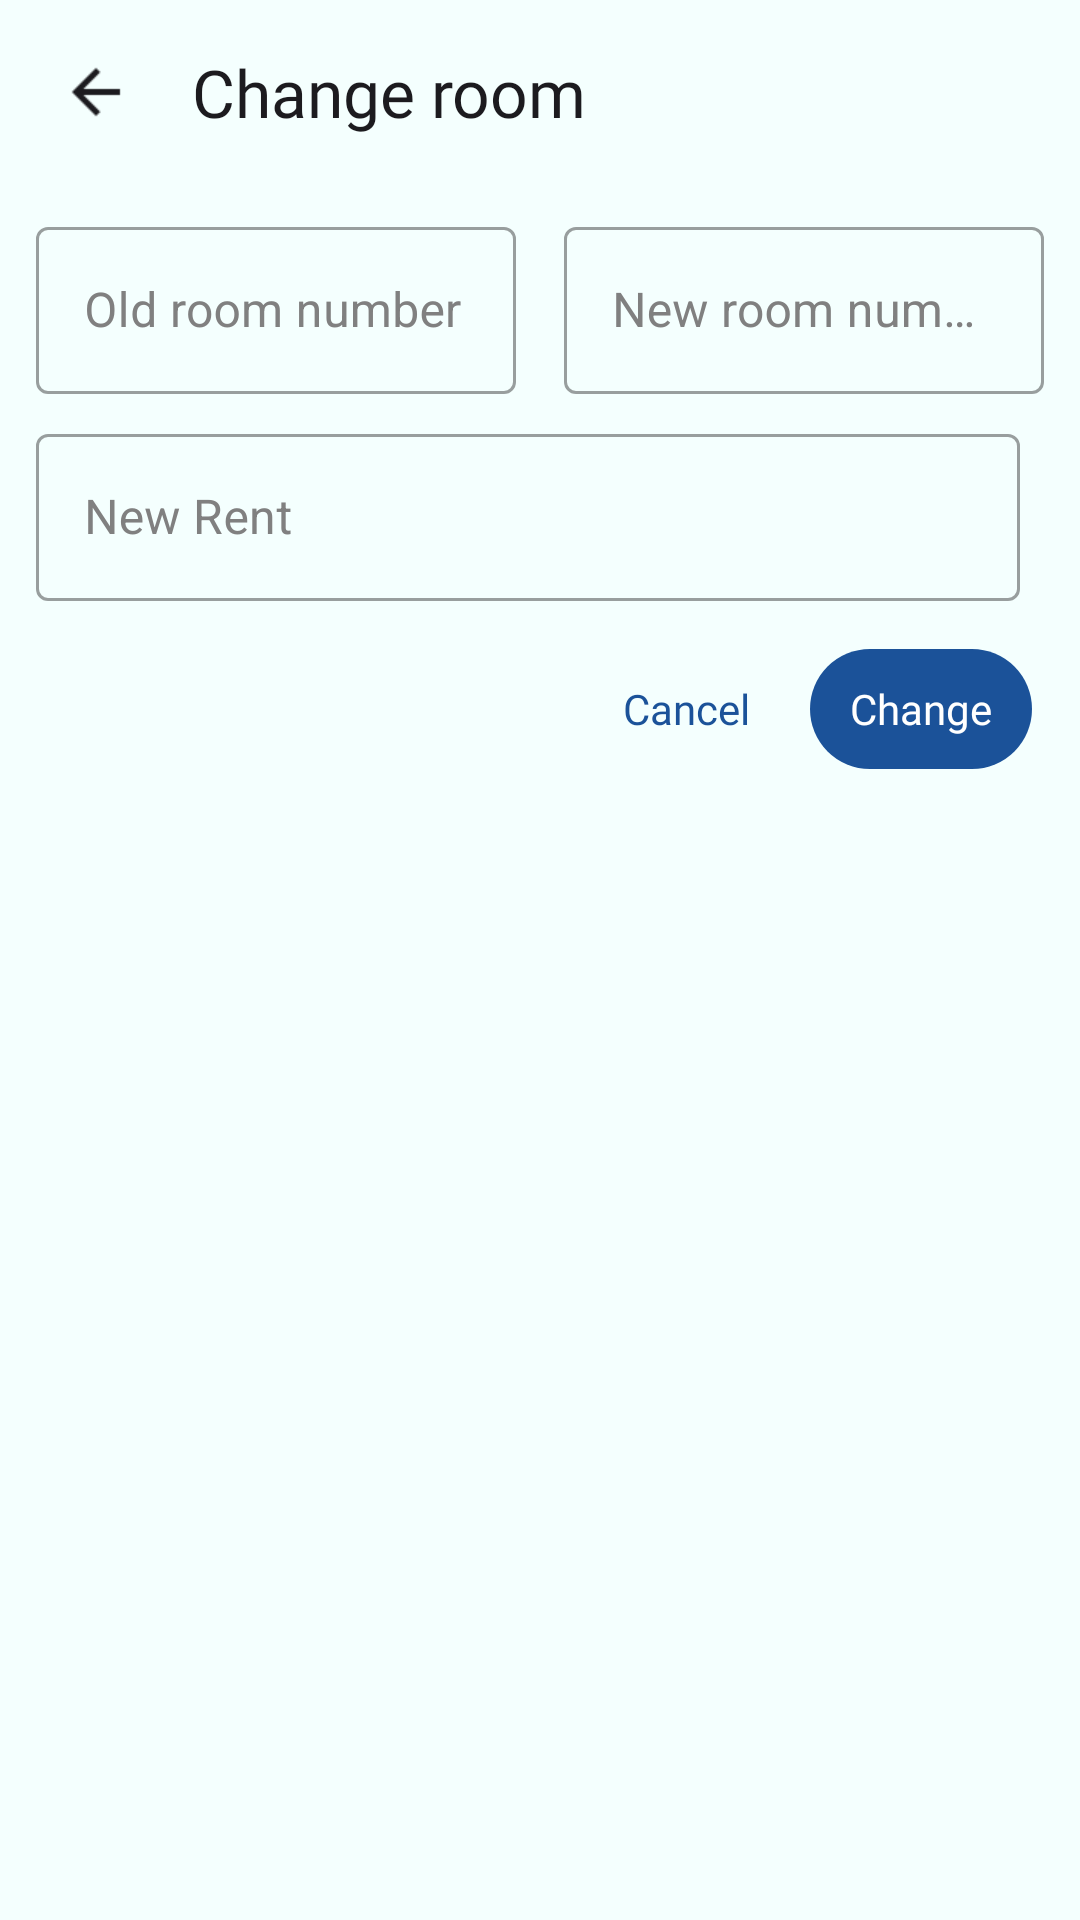

Icon click points for this 1080w x 1920h phone screenshot, format (x=x, y=y):
back: (x=96, y=92)
